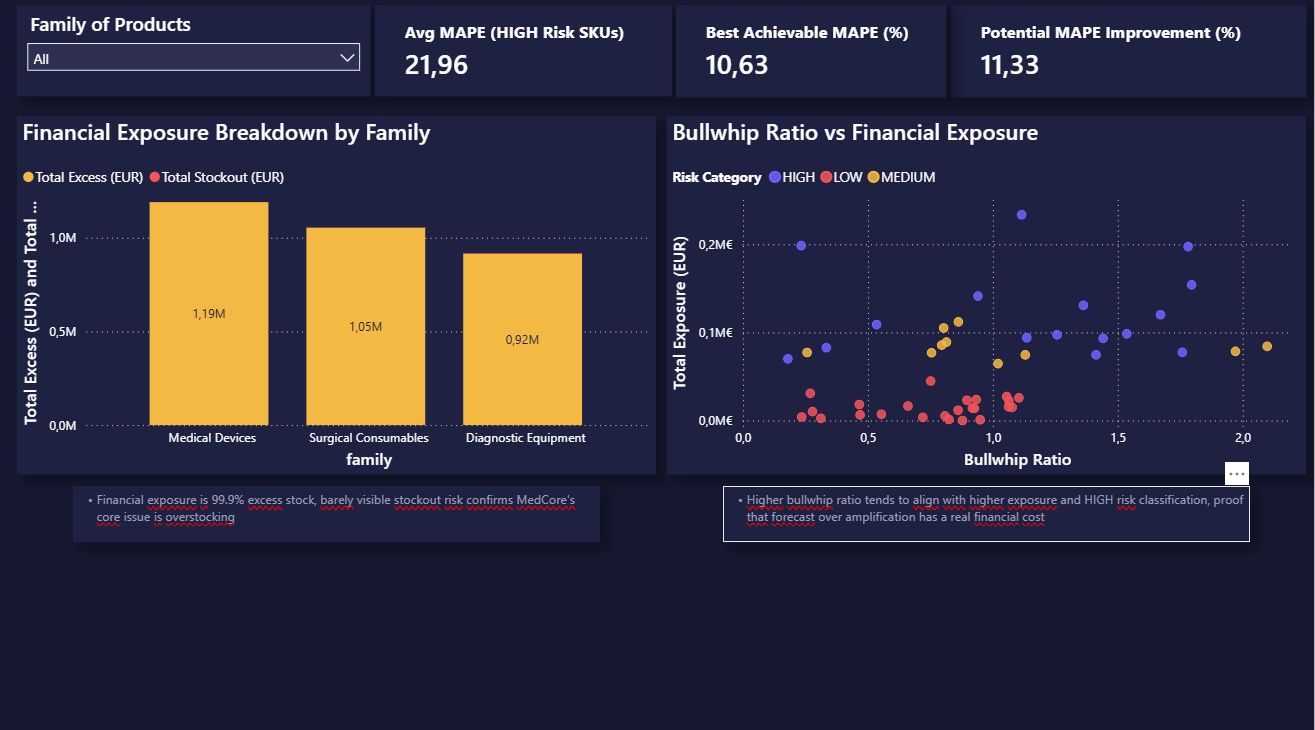

The dashboard page shown, as its layout file describes it:
{"tool":"powerbi","page":{"name":"Financial Dashboard","canvas":[1280,720],"ordinal":3},"visuals":[{"type":"slicer","fields":{"Values":["product_master.Family"]},"box":[17.5,11.6,344.3,89.5],"z":1},{"type":"cardVisual","fields":{"Data":["financial_impact.Potential MAPE Improvement"]},"box":[926.7,11.6,345.6,89.6],"z":2},{"type":"cardVisual","fields":{"Data":["financial_impact.Avg MAPE (HIGH Risk SKUs)"]},"box":[366.2,11.6,288.9,89.5],"z":4},{"type":"cardVisual","fields":{"Data":["financial_impact.Best Achievable MAPE"]},"box":[659.5,11.6,262.8,89.6],"z":5},{"type":"columnChart","title":"Financial Exposure Breakdown by Family","fields":{"Category":["financial_summary_by_family.family"],"Y":["Sum(financial_summary_by_family.total_excess_eur)","Sum(financial_summary_by_family.total_stockout_eur)"]},"box":[17.5,119.6,622.5,349.2],"z":6},{"type":"scatterChart","title":"Bullwhip Ratio vs Financial Exposure","fields":{"X":["Sum(financial_impact.bullwhip_ratio)"],"Y":["Sum(financial_impact.total_exposure_eur)"],"Series":["financial_impact.risk_category"],"Category":["financial_impact.sku_id"]},"box":[650.2,119.7,622,349.4],"z":7},{"type":"textbox","box":[72,479.9,513,54.5],"z":8},{"type":"textbox","box":[704.7,479.9,513,54.5],"z":9}]}

Visuals, with their boxes in screenshot pixels (x1, y1, x2, y2), scaled from the page's 1280x720 canvas onto the 1315x730 screenshot:
slicer - product_master.Family: crop(18, 12, 372, 103)
cardVisual - financial_impact.Potential MAPE Improvement: crop(952, 12, 1307, 103)
cardVisual - financial_impact.Avg MAPE (HIGH Risk SKUs): crop(376, 12, 673, 103)
cardVisual - financial_impact.Best Achievable MAPE: crop(678, 12, 948, 103)
"Financial Exposure Breakdown by Family" columnChart: crop(18, 121, 658, 475)
"Bullwhip Ratio vs Financial Exposure" scatterChart: crop(668, 121, 1307, 476)
textbox: crop(74, 487, 601, 542)
textbox: crop(724, 487, 1251, 542)
